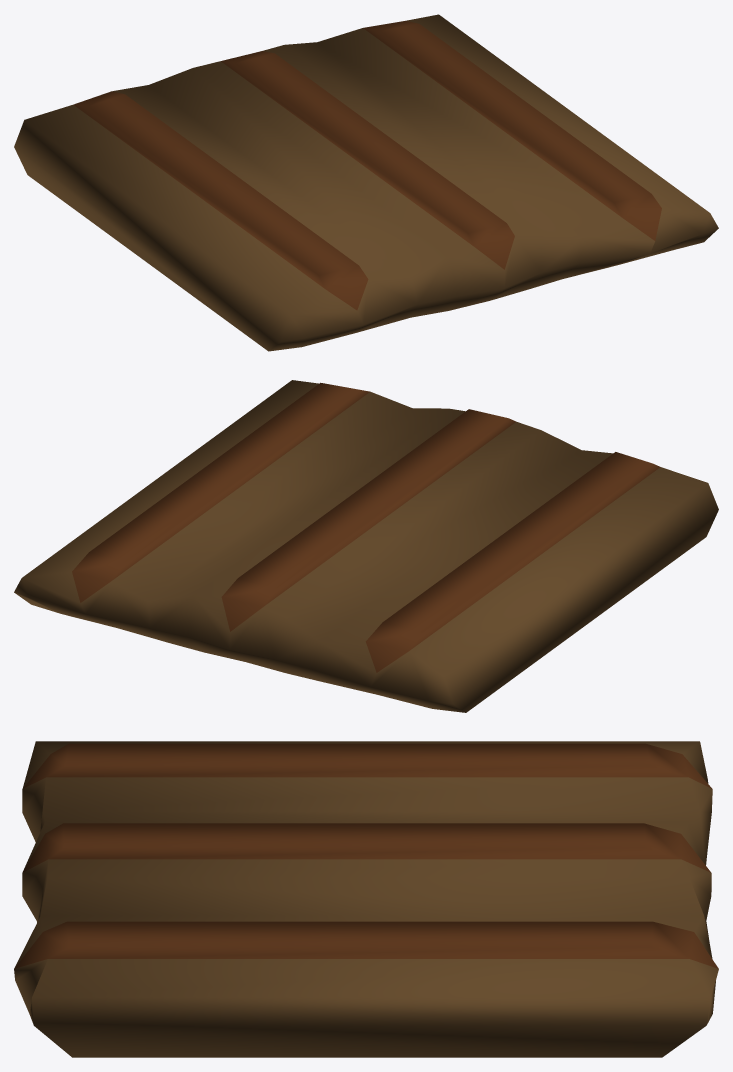
File: GardenPlot1.fbx
3 renders of one model, top to bottom at view 1: azimuth 30°, elevation 25°; view 2: azimuth 150°, elevation 25°; view 3: azimuth 270°, elevation 25°, orthographic. The views are drawn at different scales.
Visible parts, largest first — view 1: Cube; view 2: Cube; view 3: Cube.
Part boxes in pixels (x1,y1,x2,y2): Cube: (14, 14, 718, 351); Cube: (14, 380, 718, 712); Cube: (14, 741, 718, 1057).
Bounding box in the file's own units: 80.94 × 12.67 × 90.04.
